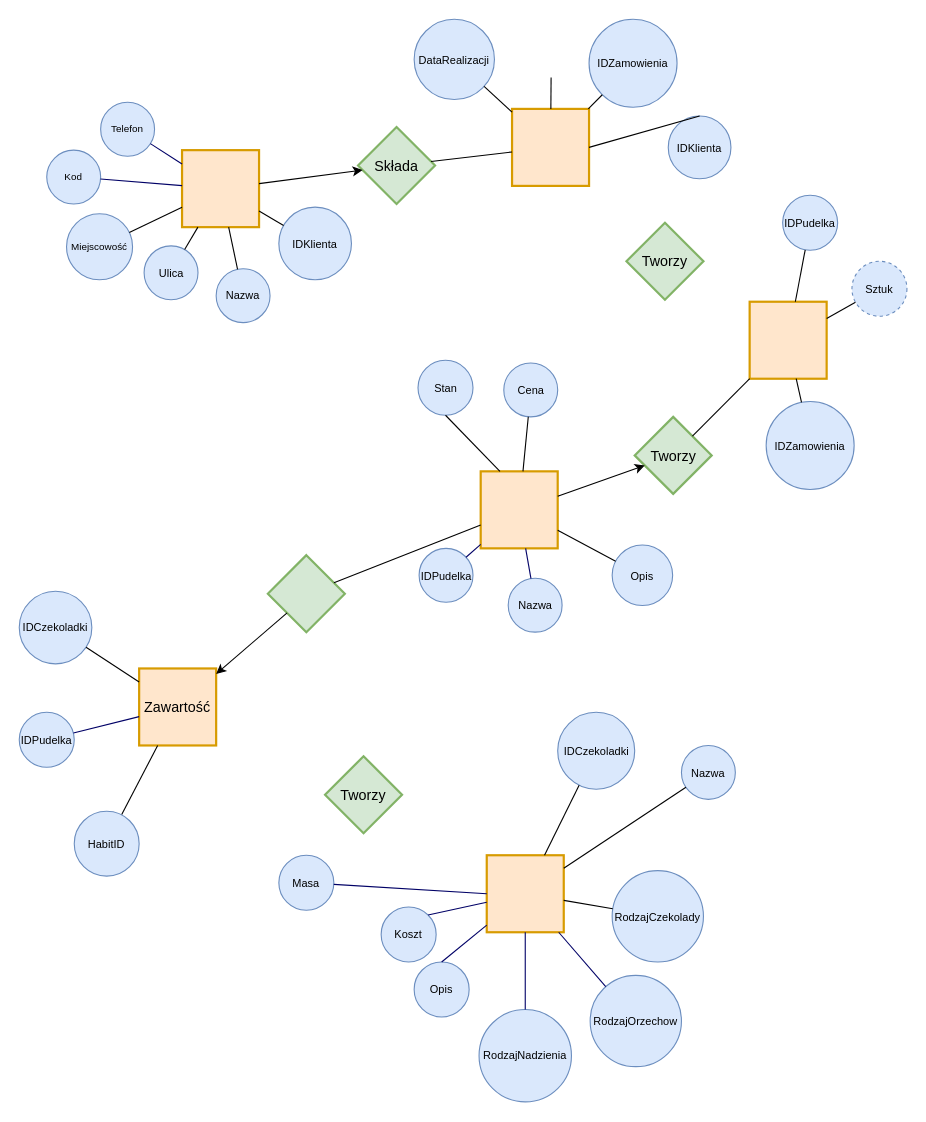
Some shapes in this 926 by 1122 pixel diagram are drawn without their labels. The centre of each missing label's shape, as x and y in pixels:
Artykuły: point (787, 339)
Czekoladki: point (524, 893)
Klienci: point (220, 188)
Posiada: point (305, 593)
Pudelka: point (518, 509)
Zamówienia: point (550, 146)
